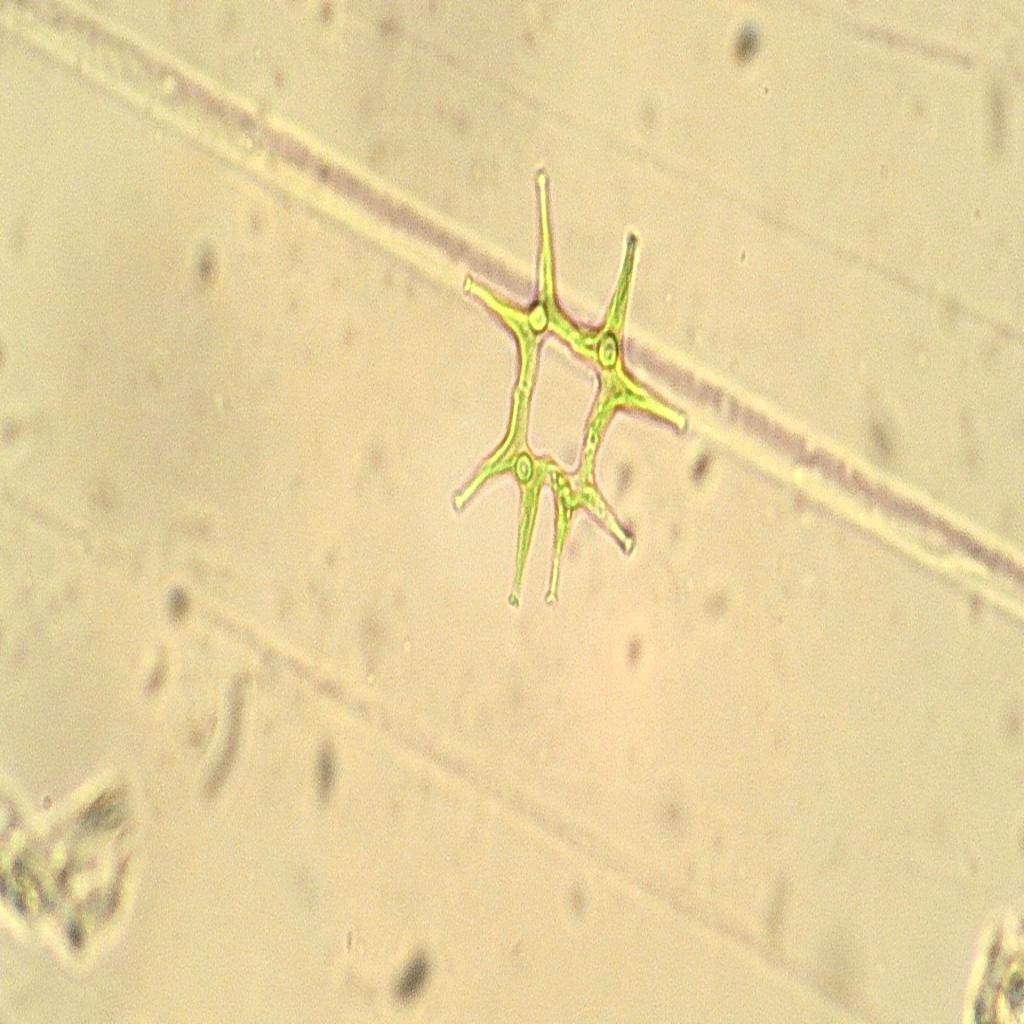Pediastrum_75O: (433, 159, 702, 621)
